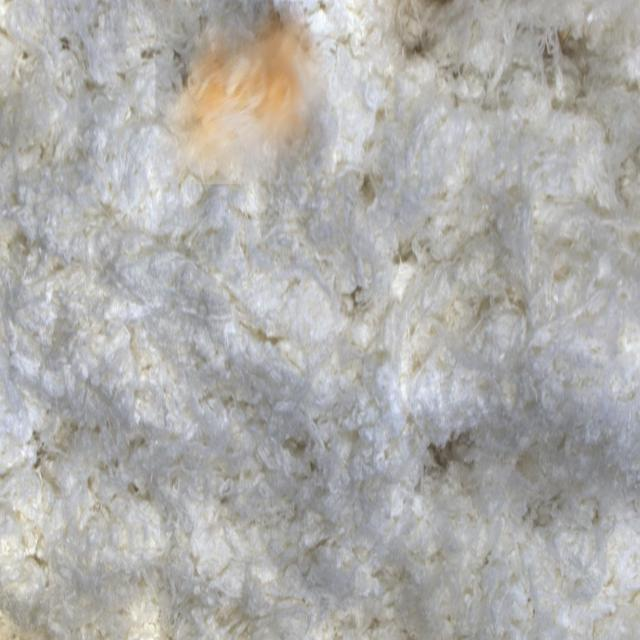dust: (155, 2, 327, 184)
